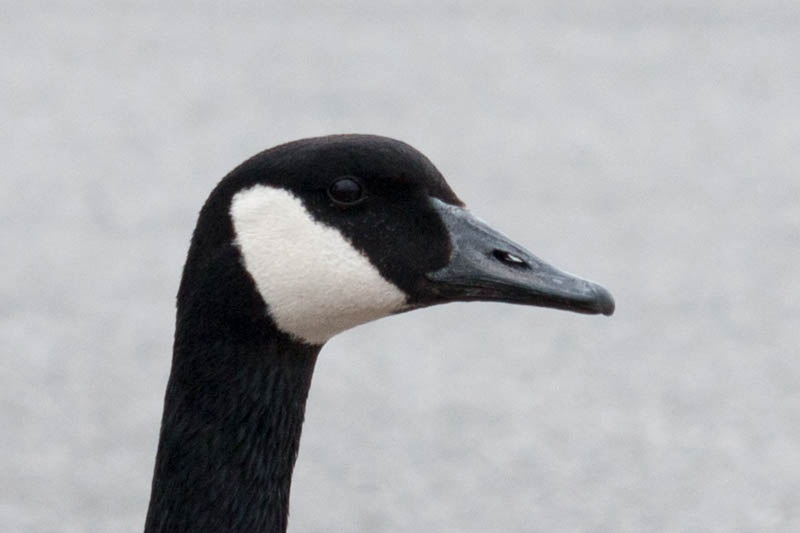goose-head: (177, 132, 616, 352)
